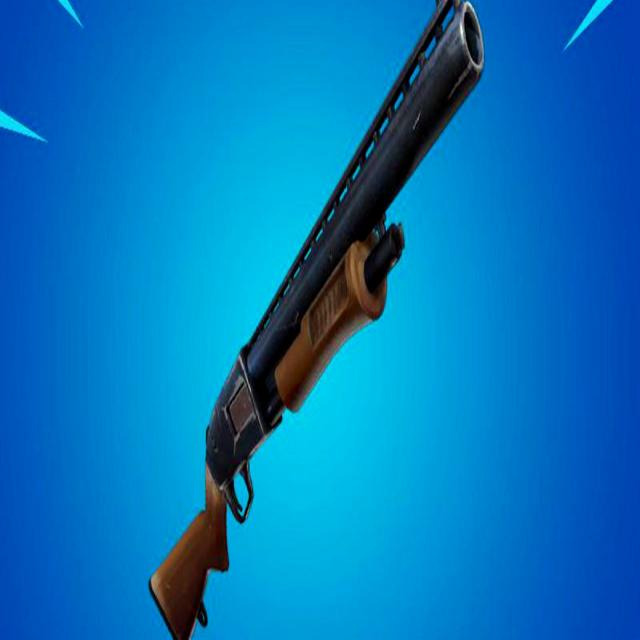ShotGun: (148, 0, 485, 640)
